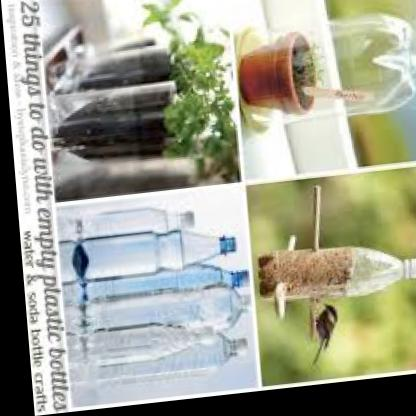Plastic: (66, 202, 241, 392)
